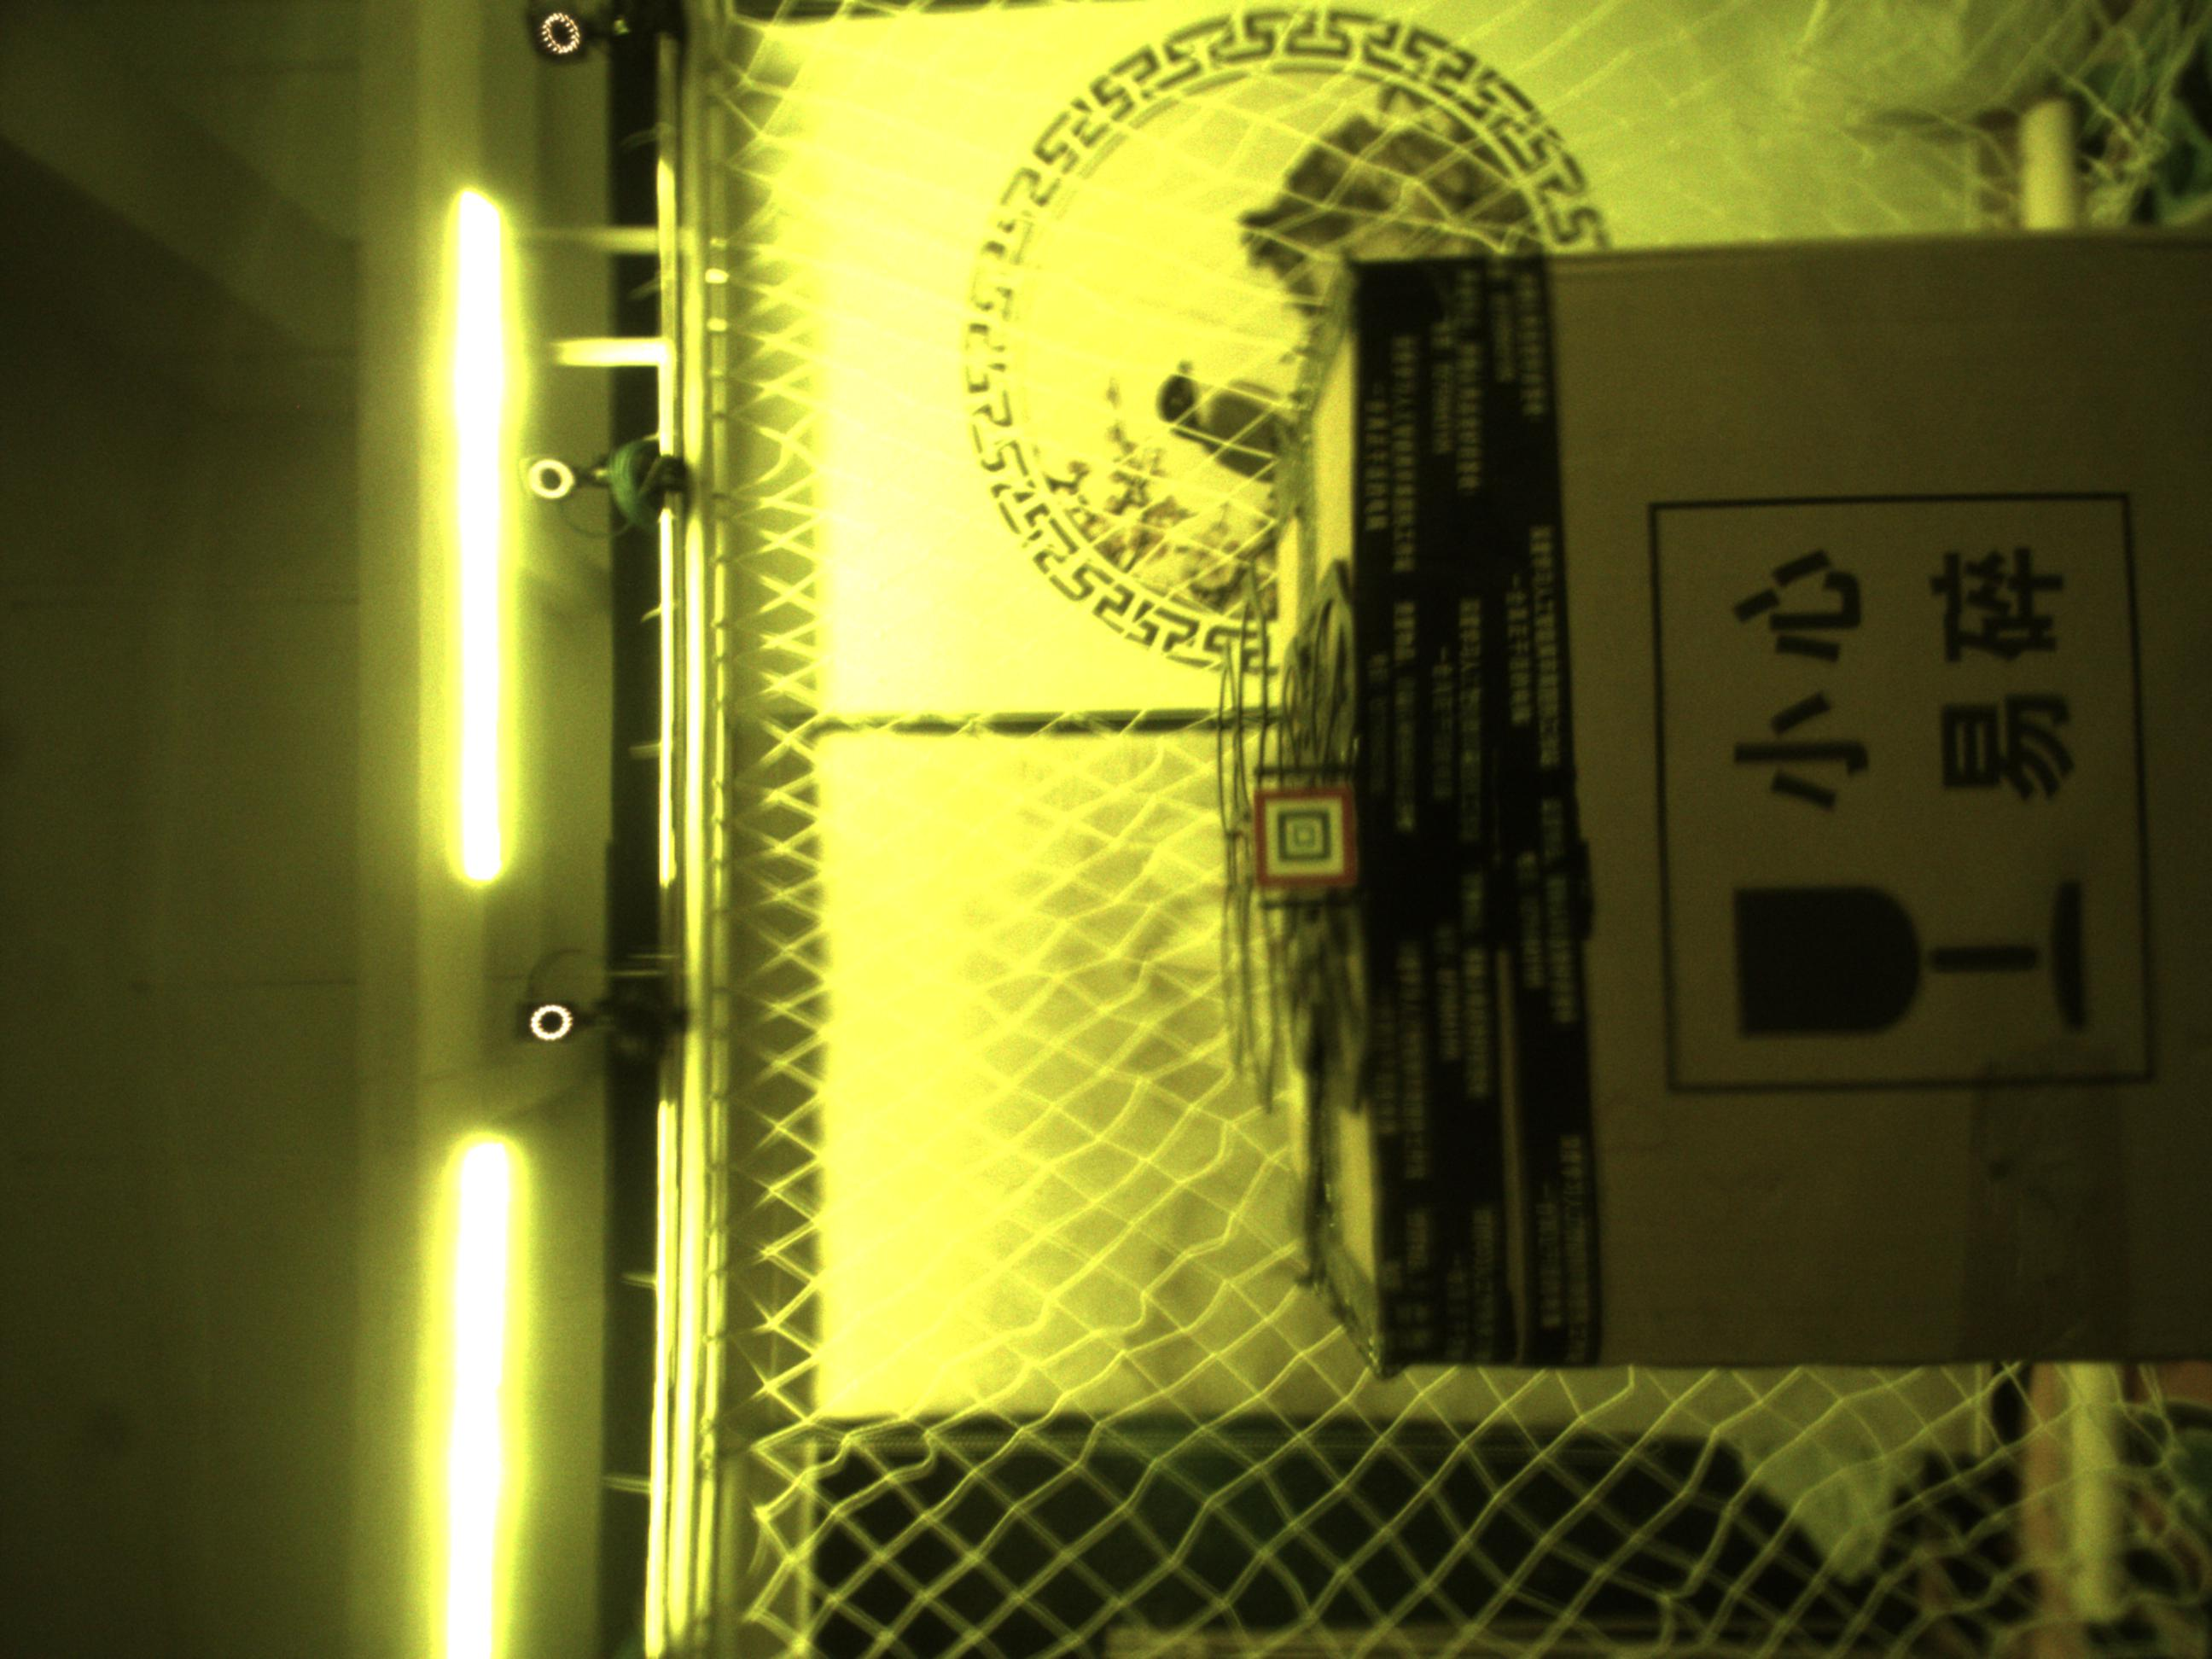outline: (1252, 788, 1359, 889)
